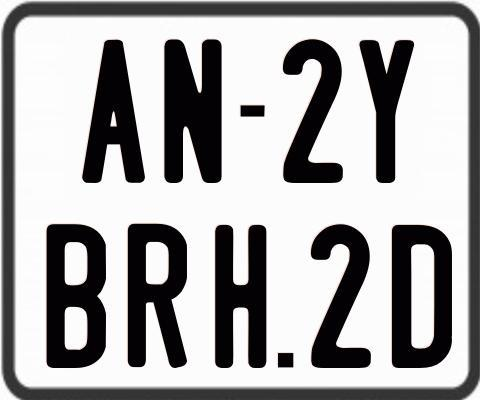2: (309, 223, 371, 371), (280, 36, 340, 186)
A: (82, 38, 151, 185)
B: (46, 223, 110, 372)
D: (392, 223, 458, 369)
H: (214, 223, 269, 367)
N: (164, 37, 224, 184)
R: (125, 224, 185, 372)
Y: (359, 38, 415, 181)
